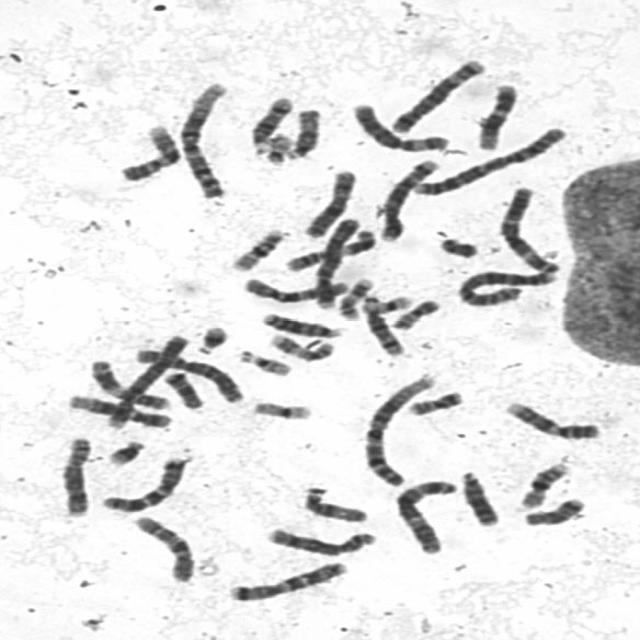A1: (356, 368, 440, 487), (172, 76, 232, 200)
A2: (405, 121, 570, 197), (452, 263, 562, 308)
A3: (492, 180, 564, 274), (388, 474, 461, 555)
B4: (98, 328, 194, 428), (306, 213, 365, 310)
B5: (382, 53, 489, 135), (372, 154, 443, 244)
C10: (126, 510, 199, 583), (237, 271, 354, 305)
C11: (84, 354, 174, 411), (278, 224, 379, 273)
C12: (62, 388, 175, 429), (469, 79, 521, 152)
C6: (128, 343, 249, 404), (345, 98, 452, 152)
C7: (93, 451, 191, 513), (222, 556, 353, 602)
C8: (260, 522, 381, 557), (55, 431, 96, 518)
C9: (499, 396, 605, 441), (113, 119, 183, 182)
D13: (454, 464, 503, 528), (255, 307, 348, 339)
D14: (356, 291, 409, 357), (244, 91, 297, 154)
D15: (296, 483, 372, 524), (282, 103, 324, 160)
E16: (512, 457, 574, 510), (225, 223, 287, 273)
E17: (263, 328, 339, 362), (332, 272, 377, 320)
E18: (517, 492, 591, 528), (156, 367, 207, 410)
F19: (246, 395, 316, 421), (355, 290, 417, 315)
F20: (384, 294, 444, 330), (401, 385, 468, 417)
G21: (101, 434, 149, 468), (190, 320, 232, 356)
G22: (231, 344, 295, 378), (259, 128, 296, 166)
X: (294, 164, 360, 239)
Y: (433, 232, 482, 259)
